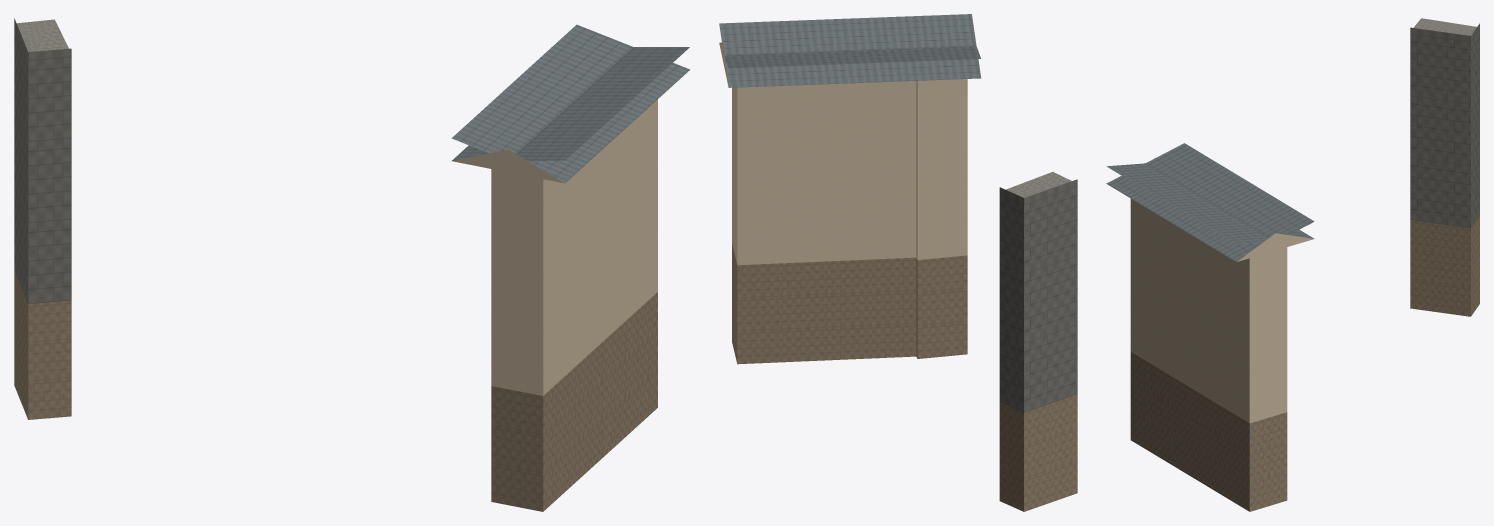
Rendered from bld_c-2_-2_552.gltf.
3 renders of one model, left to right at view 1: azimuth 30°, elevation 25°; view 2: azimuth 150°, elevation 25°; view 3: azimuth 270°, elevation 25°, orthographic. The views are drawn at different scales.
Visible parts, largest first — view 1: bld_c-2_-2_552; view 2: bld_c-2_-2_552; view 3: bld_c-2_-2_552.
Boxes of the visible parts, x1=… form: bld_c-2_-2_552: x1=14, y1=18, x2=690, y2=511; bld_c-2_-2_552: x1=719, y1=14, x2=1077, y2=511; bld_c-2_-2_552: x1=1106, y1=18, x2=1479, y2=511.
Bounding box in the file's own units: 24.91 × 17.58 × 19.51.
Materials: 7 (7 with a texture image).
